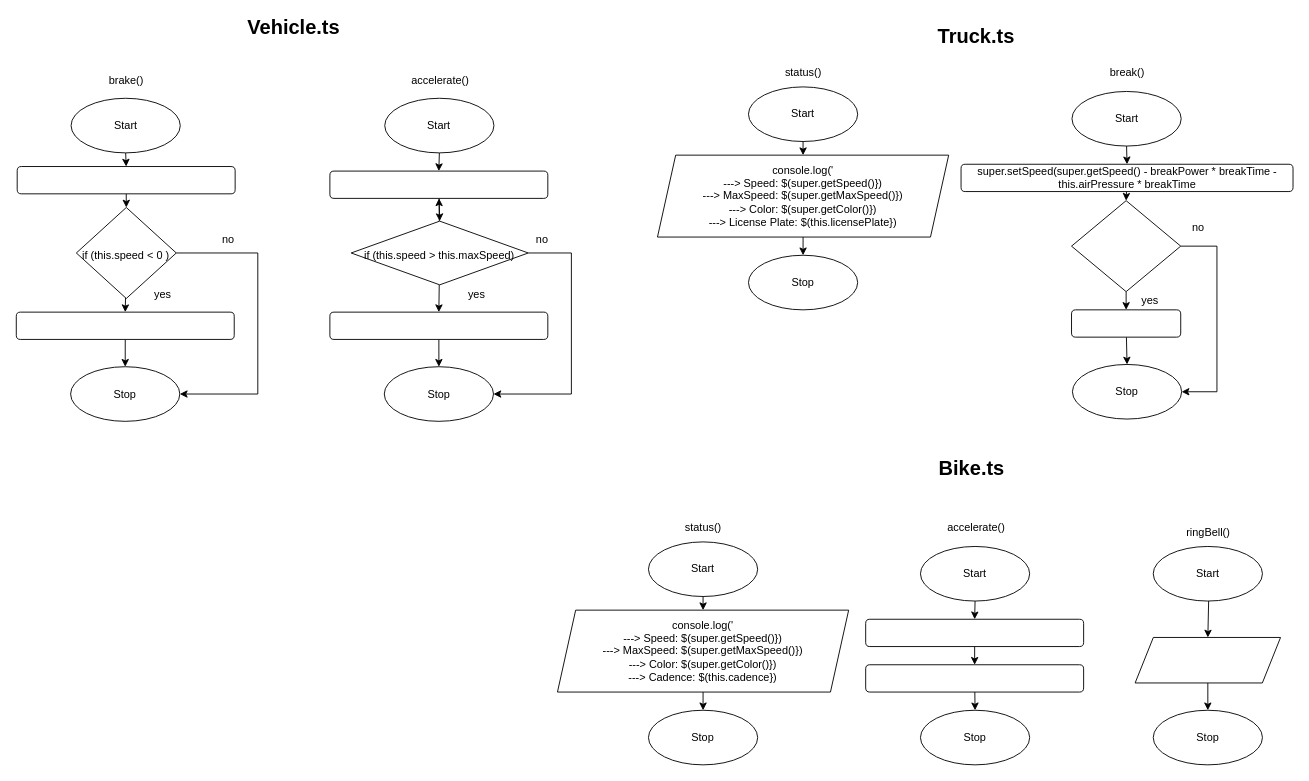
The diagram is 1309 pixels wide and 781 high, and some of its shapes have lost their labels. Each missing label, with the centre of its shape:
console.log('Ding ding!'): the point at 1207,660
if (super.getSpeed()) < 0: the point at 1126,246
super.setSpeed(0): the point at 1126,323
super.setSpeed(this,cadence * 2): the point at 974,678
this.cadence = this.cadence + appliedPower: the point at 974,632
this.speed = 0: the point at 124,325
this.speed = accelerationPower * accelerationTime + this.speed: the point at 438,184
this.speed = this.maxSpeed: the point at 438,325
this.speed = this.speed - breakPower * breakTime: the point at 125,180
